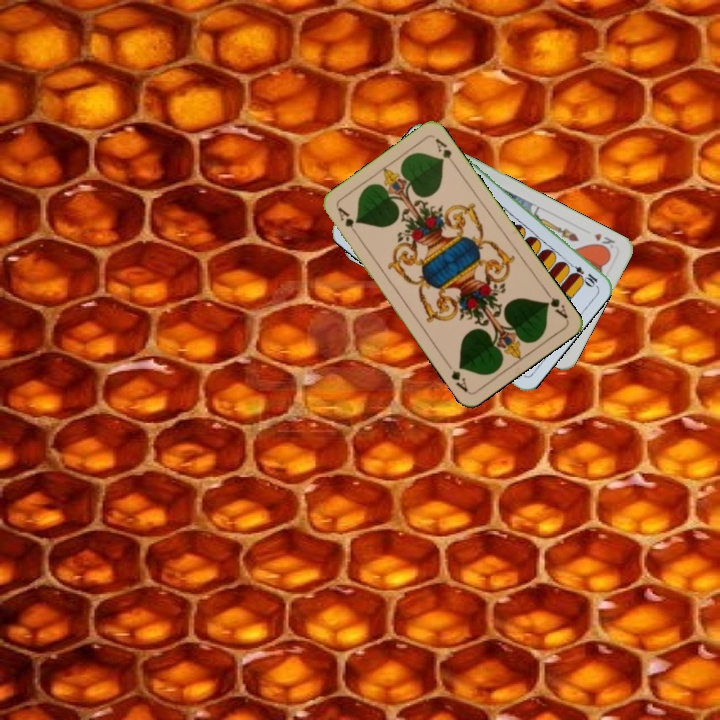E10: (563, 258, 600, 289)
GA: (540, 286, 571, 322), (334, 203, 362, 239)
HK: (589, 229, 618, 254)
